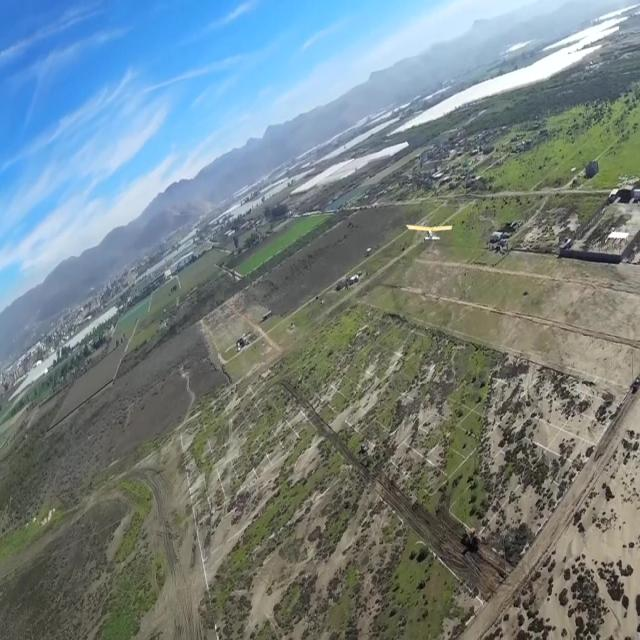iha: (406, 222, 452, 242)
